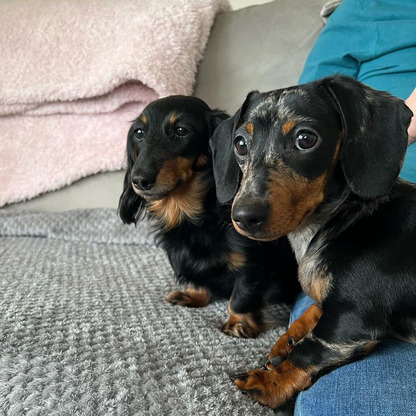dachshund: (201, 75, 406, 394), (89, 83, 239, 308)
